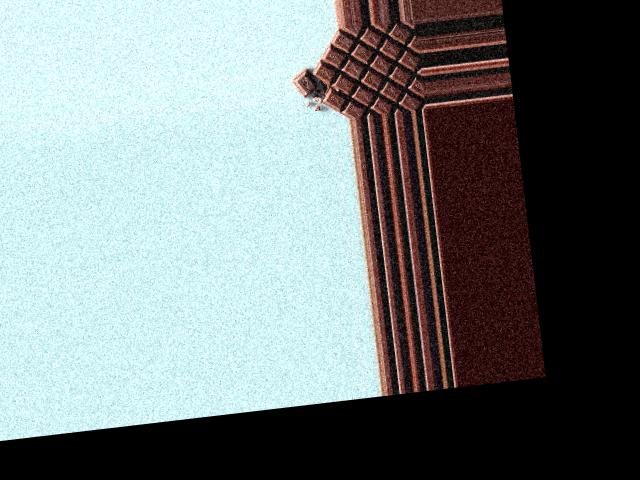chocolate: (300, 22, 426, 121)
